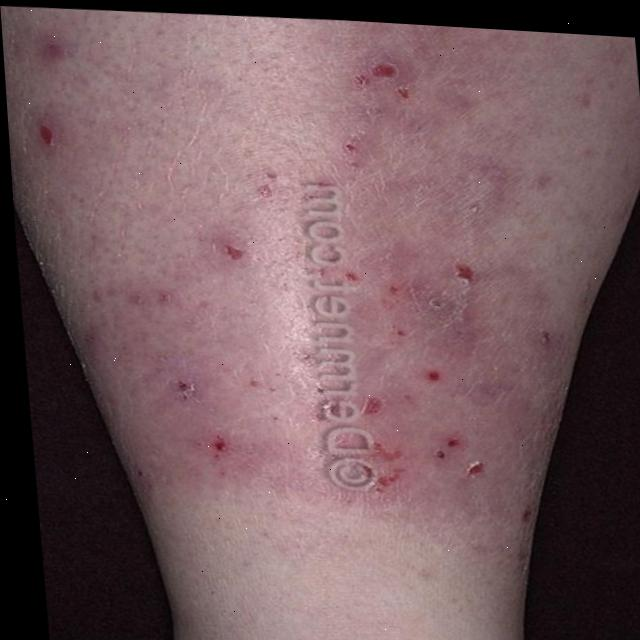Eczema: (24, 23, 559, 506)
